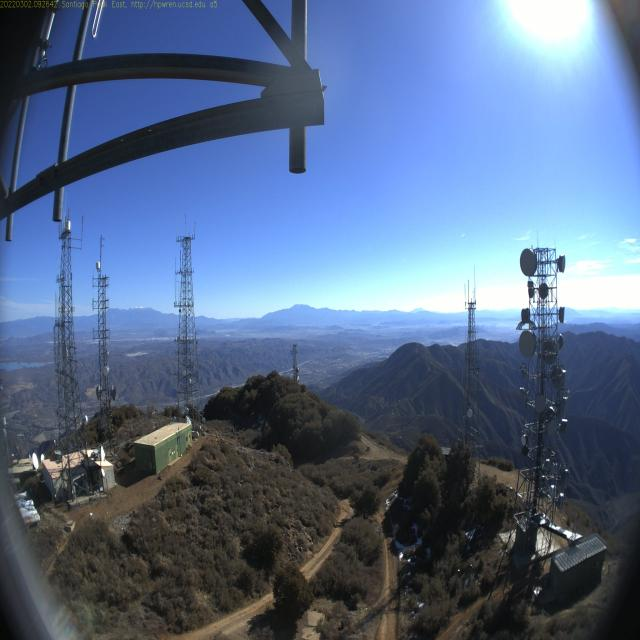smoke: (601, 488, 640, 534)
